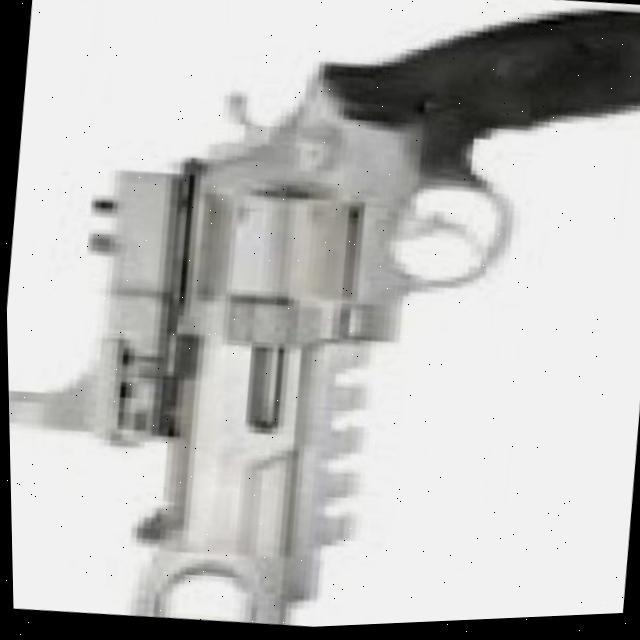gun: (87, 0, 640, 637)
